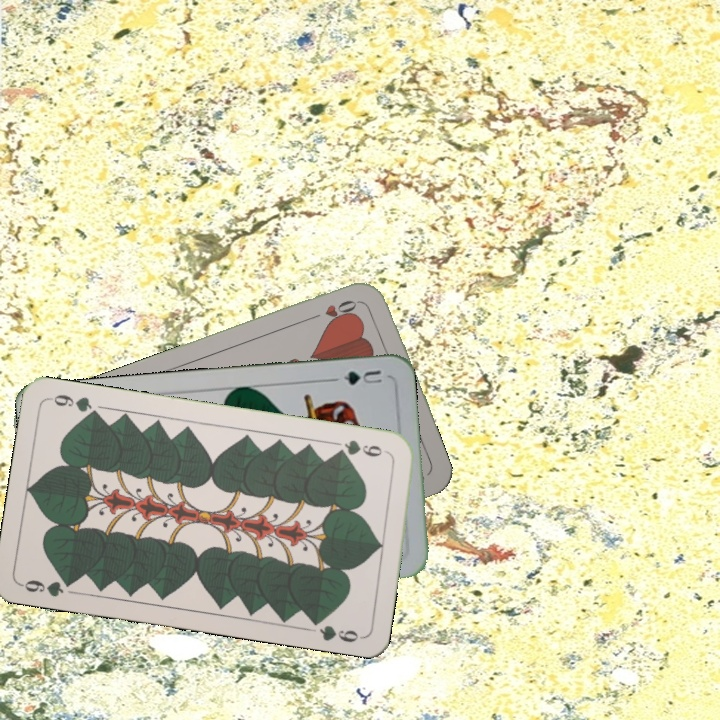G9: (18, 574, 78, 600), (332, 435, 392, 460)
GU: (339, 366, 385, 388)
HO: (306, 295, 364, 327)
